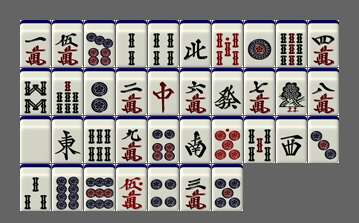0m: (116, 164, 147, 211)
0p: (212, 116, 243, 163)
0s: (212, 20, 243, 67)
1m: (20, 20, 51, 67)
1p: (244, 20, 275, 67)
1s: (276, 68, 307, 115)
1z: (52, 116, 83, 163)
2m: (116, 68, 147, 115)
2p: (84, 68, 115, 115)
2s: (116, 20, 147, 67)
2z: (180, 116, 211, 163)
3m: (180, 164, 211, 211)
3p: (308, 116, 339, 163)
3s: (20, 164, 51, 211)
3z: (276, 116, 307, 163)
4m: (308, 20, 339, 67)
4p: (148, 164, 179, 211)
4s: (148, 20, 179, 67)
4z: (180, 20, 211, 67)
5m: (52, 20, 83, 67)
5p: (212, 164, 243, 211)
5s: (244, 116, 275, 163)
5z: (20, 116, 51, 163)
6m: (180, 68, 211, 115)
6p: (148, 116, 179, 163)
6s: (84, 116, 115, 163)
6z: (212, 68, 243, 115)
7m: (244, 68, 275, 115)
7p: (84, 20, 115, 67)
7s: (52, 68, 83, 115)
7z: (148, 68, 179, 115)
8m: (308, 68, 339, 115)
8p: (52, 164, 83, 211)
8s: (20, 68, 51, 115)
9m: (116, 116, 147, 163)
9p: (84, 164, 115, 211)
9s: (276, 20, 307, 67)
